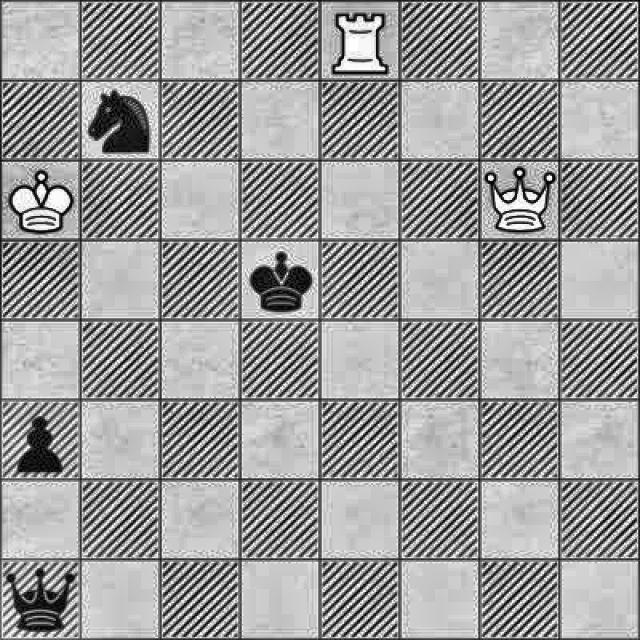Black Knight: (84, 82, 154, 158)
black king: (245, 245, 315, 314)
black pawn: (3, 404, 71, 471)
black queen: (4, 563, 78, 639)
white king: (482, 157, 560, 241), (6, 163, 77, 240)
white rook: (328, 14, 390, 78)
